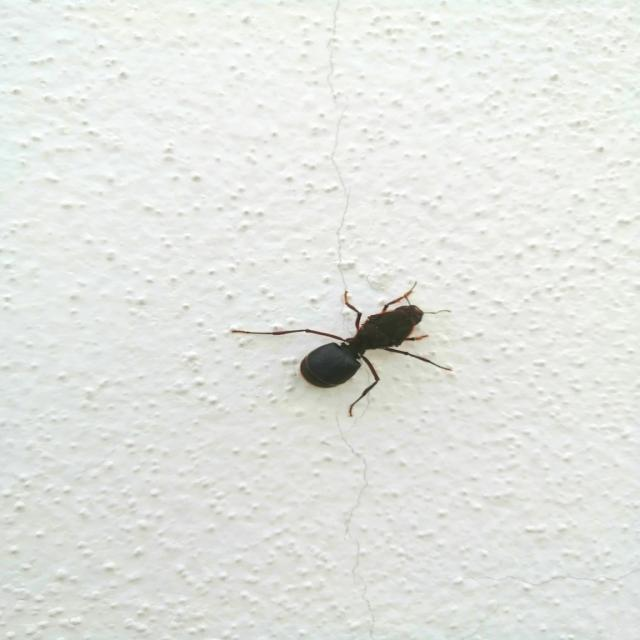Alive-Female-Dealate: (232, 281, 452, 417)
